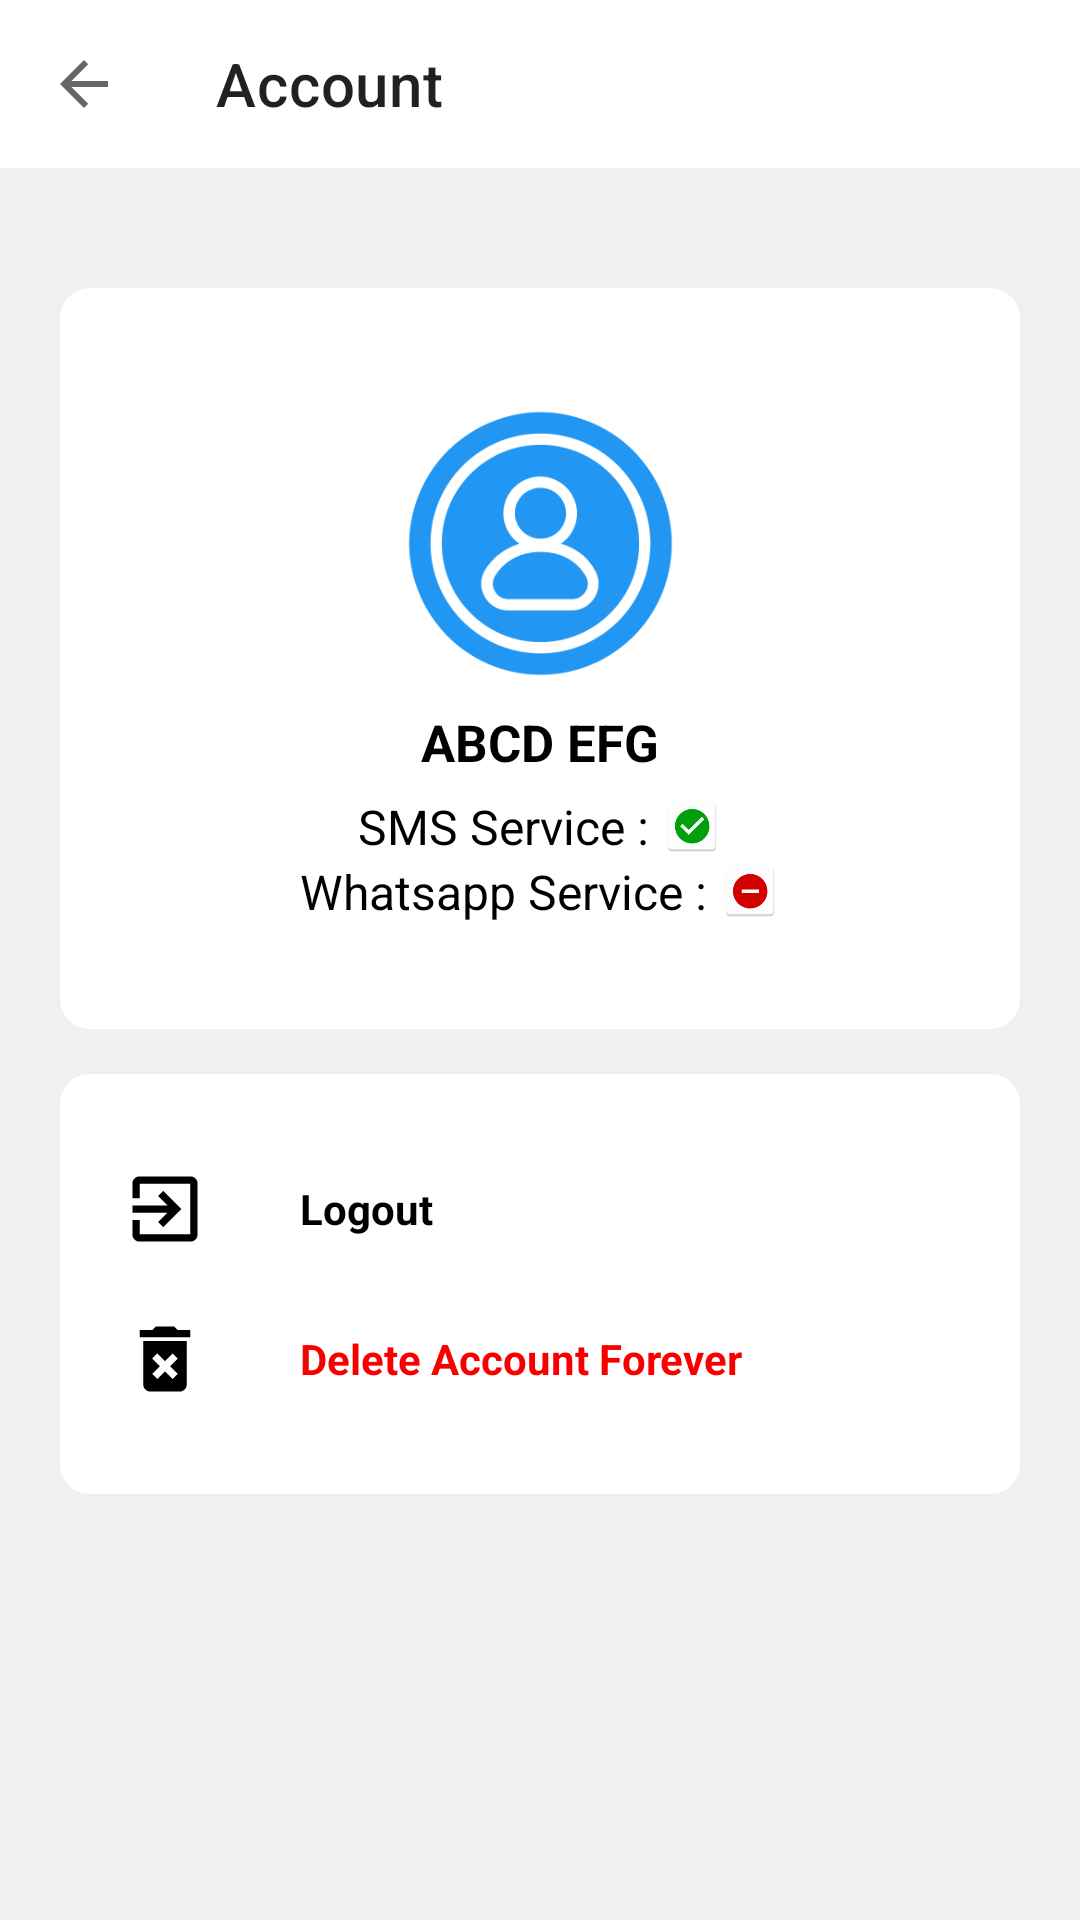

Icon bounding boxes for this 1080*1920 phone screenshot, format (x1, y1, x2, y2):
user: (408, 411, 673, 676)
